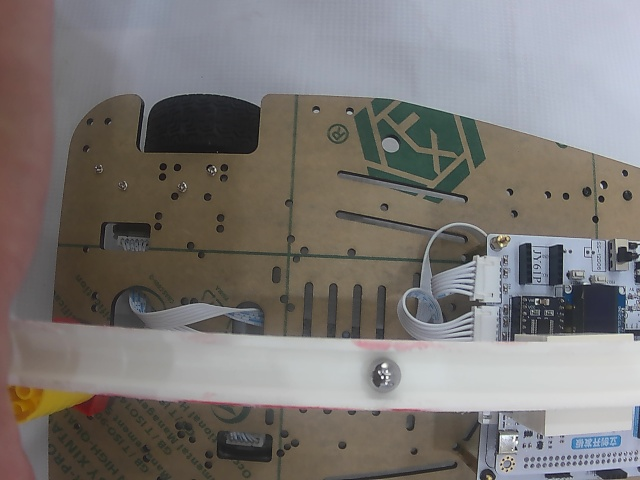steelball: (366, 357, 402, 394)
